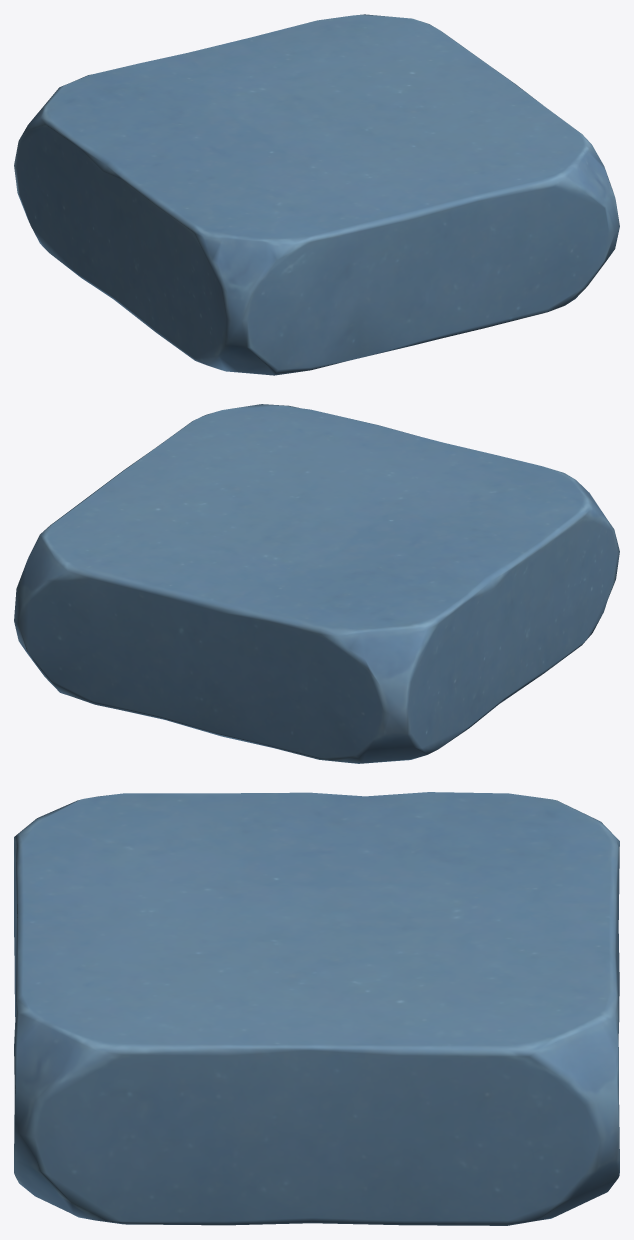
The model's file is Meshy_AI_model_20261128_texture.fbx.
3 views of the same model, one above another, from view 1: azimuth 30°, elevation 25°; view 2: azimuth 150°, elevation 25°; view 3: azimuth 270°, elevation 25° (orthographic). The views are drawn at different scales.
Parts seen in each view (by area): view 1: geometry_0; view 2: geometry_0; view 3: geometry_0.
Part boxes in pixels (x1,y1,x2,y2): geometry_0: (14, 14, 619, 375); geometry_0: (14, 404, 619, 763); geometry_0: (14, 792, 619, 1225).
Bounding box in the file's own units: 100 × 33.39 × 100.
1 material, 1 textured.
